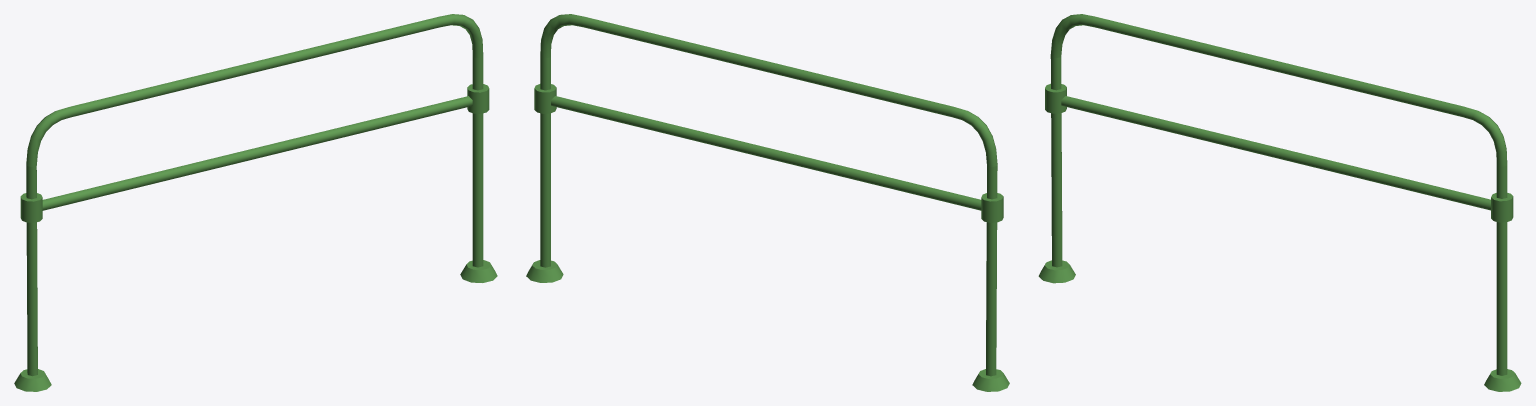
Rendered from parapet fence lod0.FBX.
3 views of the same model, side by side, from view 1: azimuth 30°, elevation 25°; view 2: azimuth 150°, elevation 25°; view 3: azimuth 330°, elevation 25° (orthographic).
Visible parts, largest first — view 1: Object347; view 2: Object347; view 3: Object347.
Boxes of the visible parts, x1,y1,x2,y2 form: Object347: (14, 14, 497, 391); Object347: (526, 14, 1009, 391); Object347: (1038, 14, 1521, 391).
Bounding box in the file's own units: 1.83 × 0.9795 × 0.1188.
